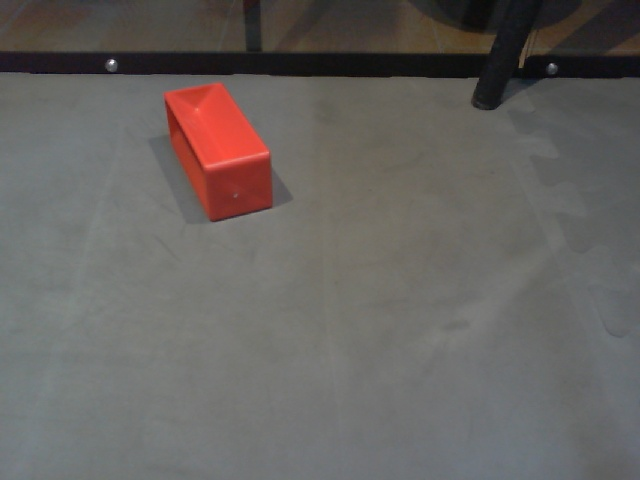RedSample: (162, 83, 275, 225)
